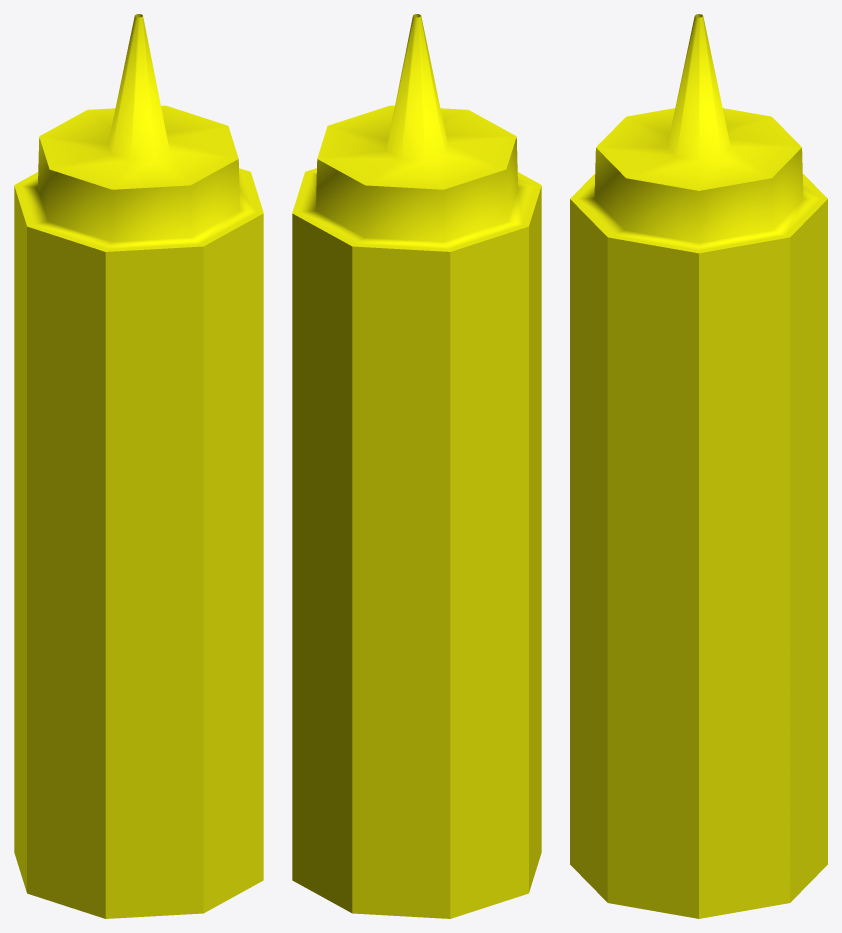
Rendered from MustardBottle.fbx.
The picture shows the model from 3 angles, left to right: view 1: azimuth 30°, elevation 25°; view 2: azimuth 150°, elevation 25°; view 3: azimuth 270°, elevation 25°; orthographic projection.
Visible parts, largest first — view 1: pCylinder1; view 2: pCylinder1; view 3: pCylinder1.
Boxes of the visible parts, x1,y1,x2,y2 form: pCylinder1: (14,14,263,918); pCylinder1: (292,14,541,918); pCylinder1: (570,14,827,918).
Size of the model in its own units: 31.29 by 114 by 31.29.
